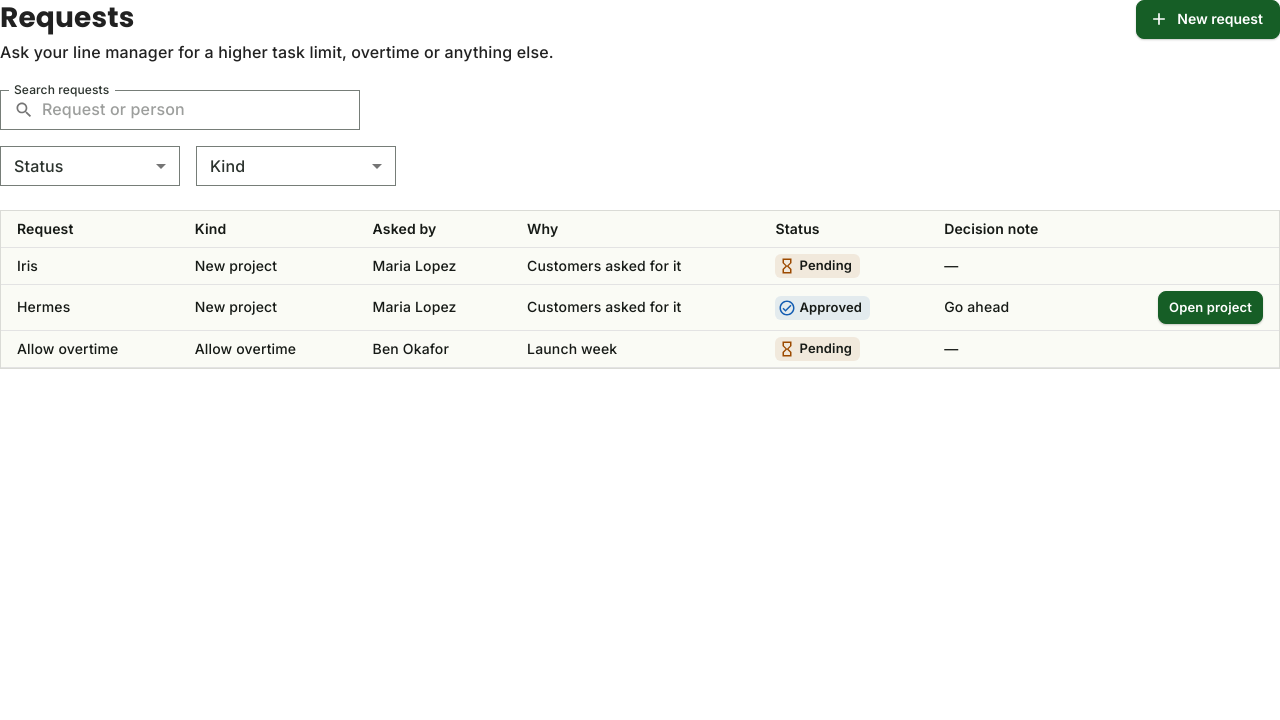
Test case: RequestsPage › asking for a task limit sends kind and taskLimit
This screenshot has width=1280, height=720.
Click the button "New request" at (1208, 19), box x1=1136 y1=0 x2=1279 y2=38
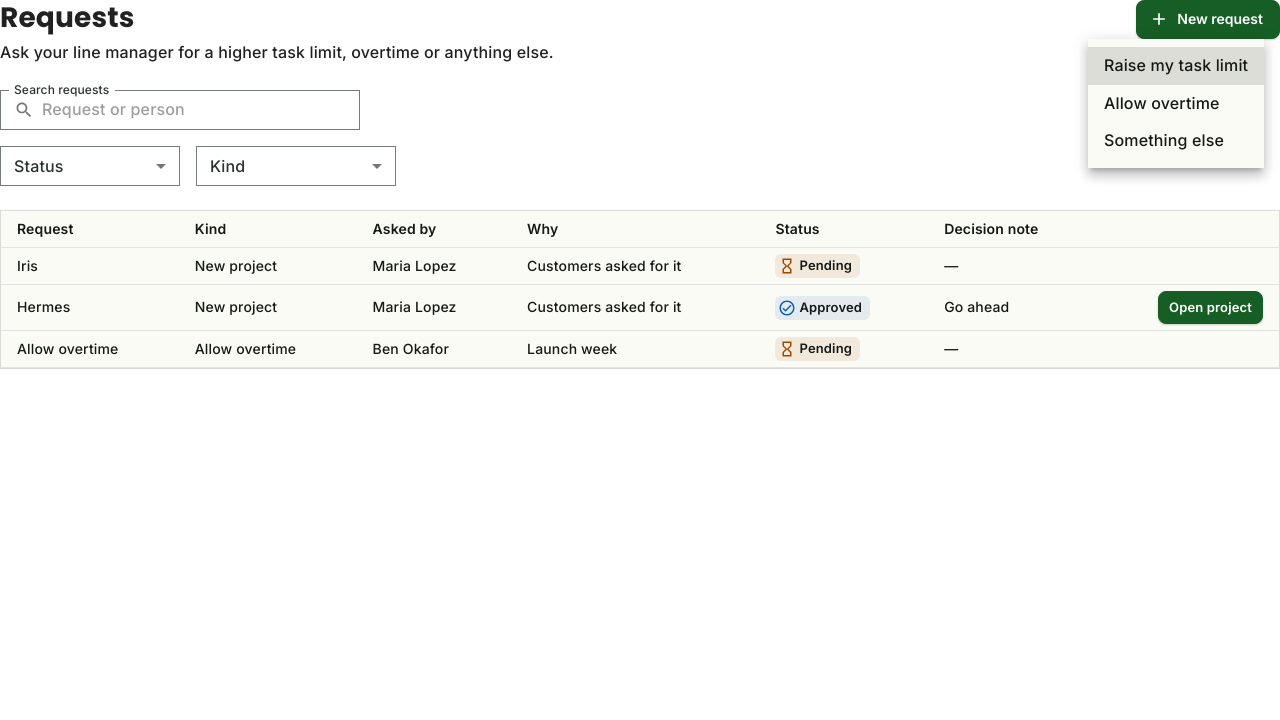
Click the menu item "Raise my task limit" at (1176, 66), box x1=1088 y1=47 x2=1264 y2=85
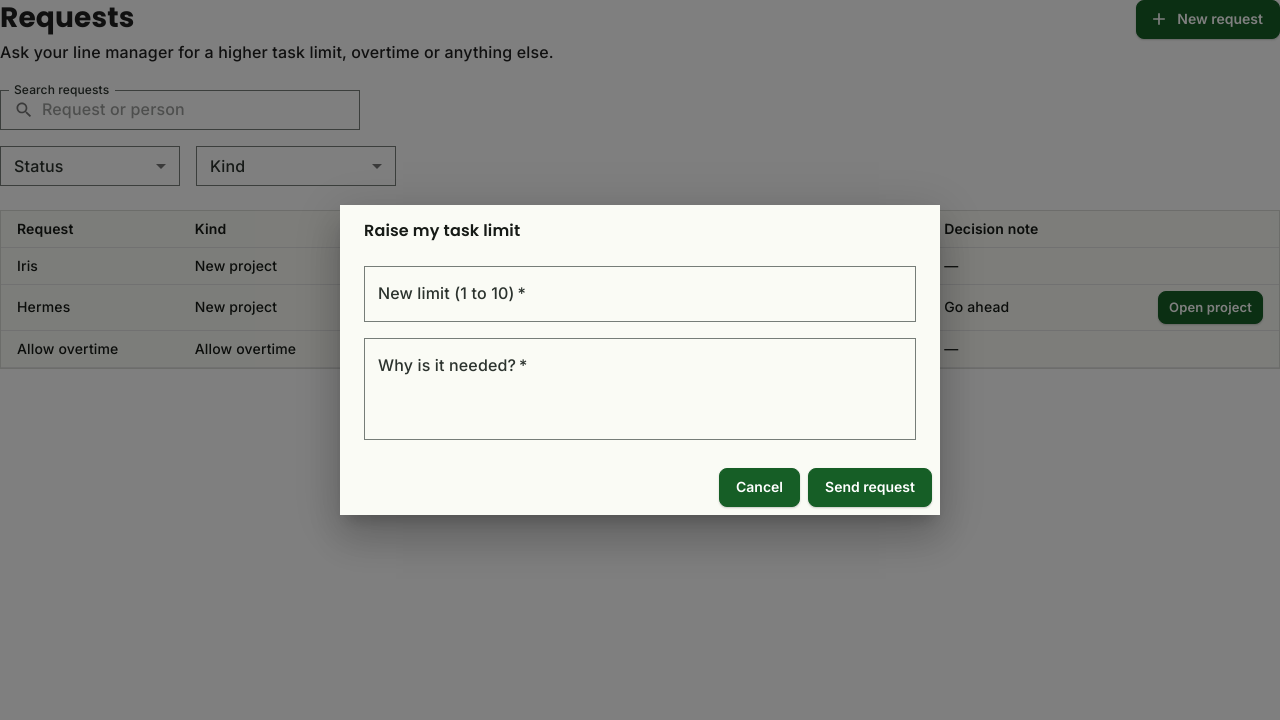
Type "4" into the number field labelled "New limit (1 to 10) *" at (640, 294), box x1=364 y1=266 x2=916 y2=322
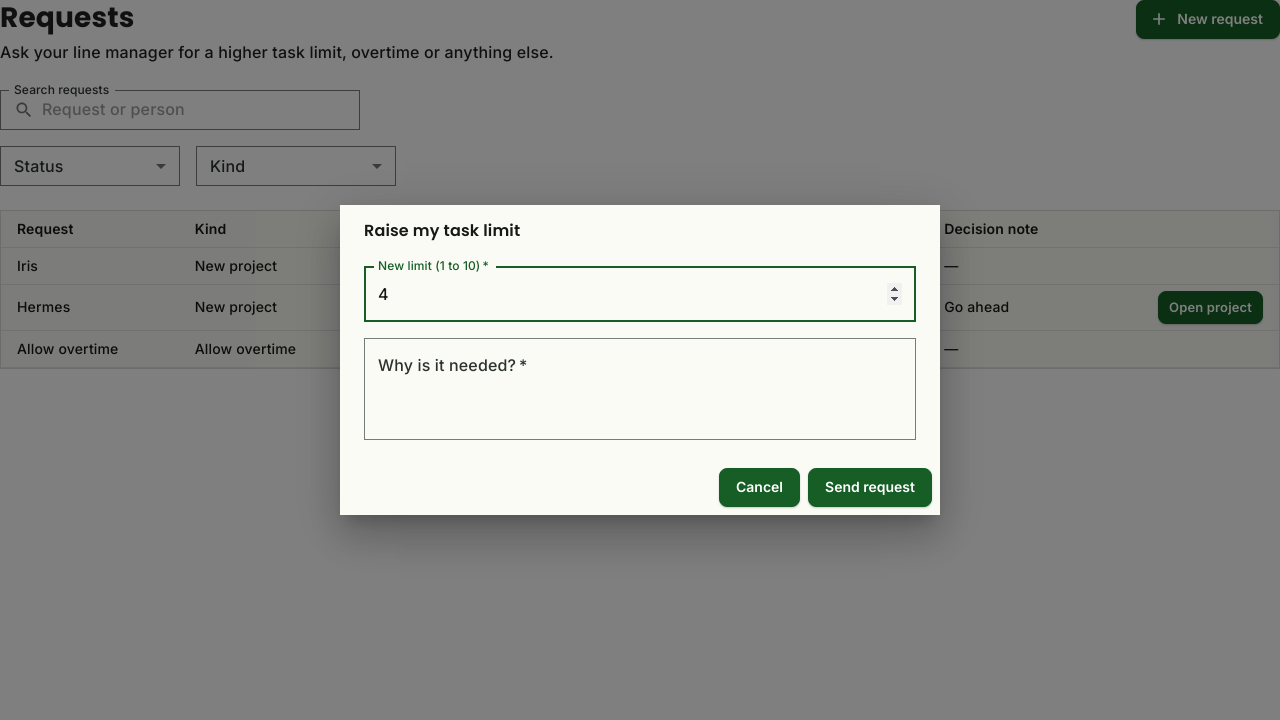
Type "Two small tasks at once" into the text box labelled "Why is it needed? *" at (640, 389), box x1=378 y1=355 x2=902 y2=424
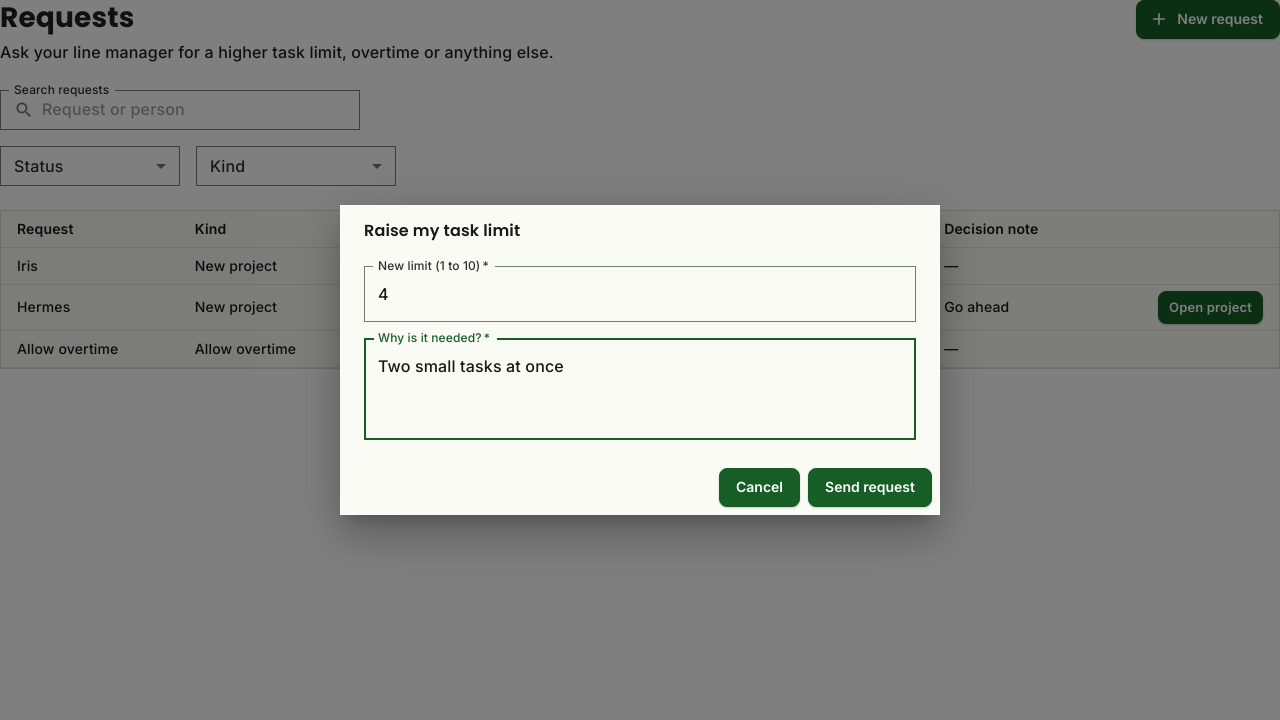
Click the button "Send request" at (870, 487), box x1=808 y1=468 x2=932 y2=507
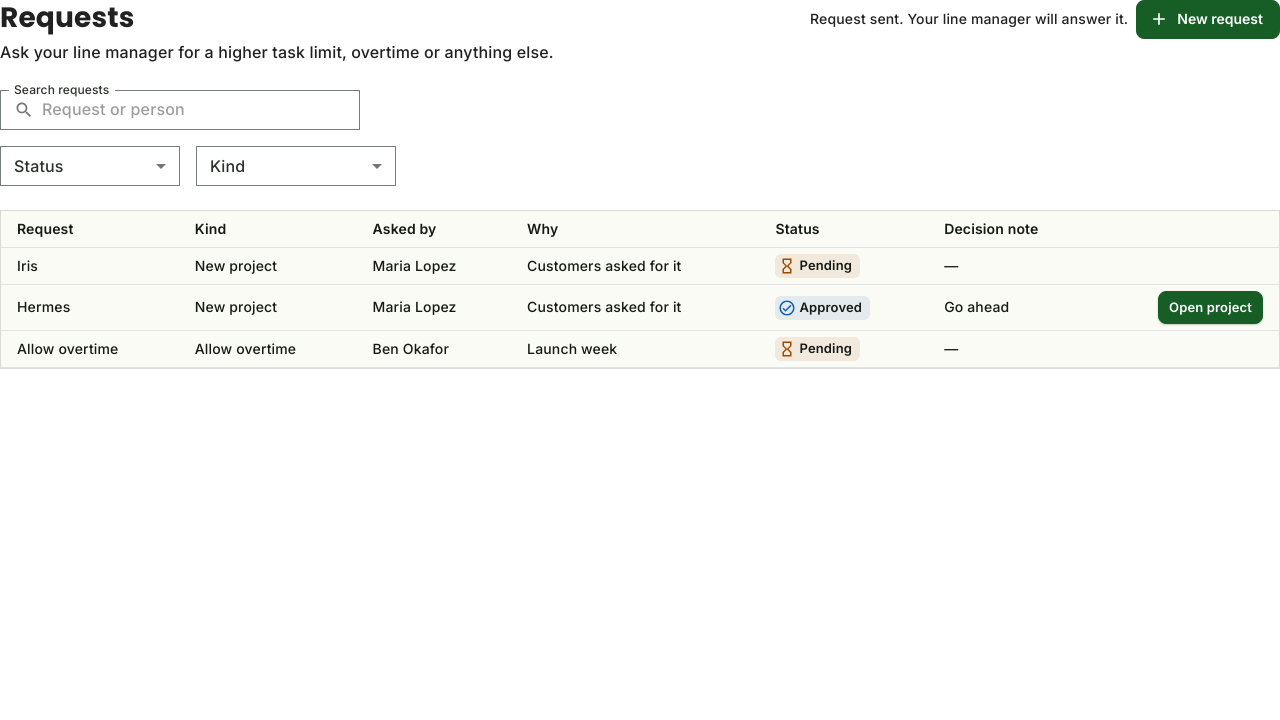
Expected: the text "Request sent. Your line manager will answer it." is shown, x1=810 y1=8 x2=1128 y2=30
